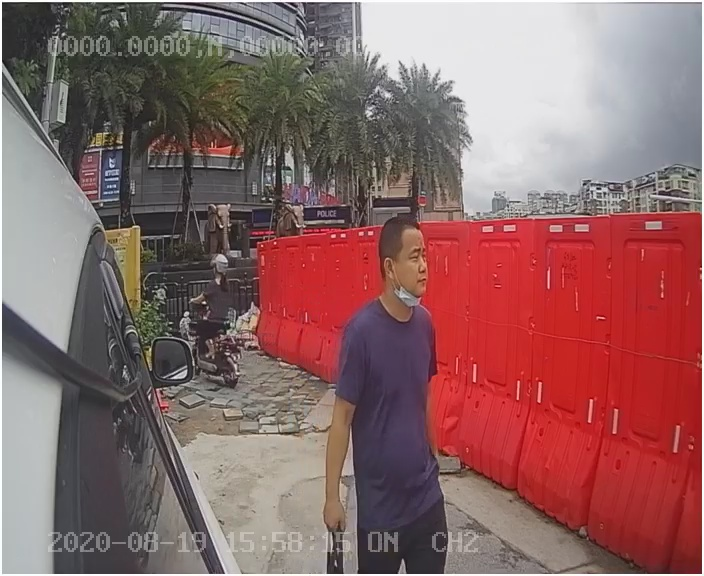person: (312, 217, 475, 535)
